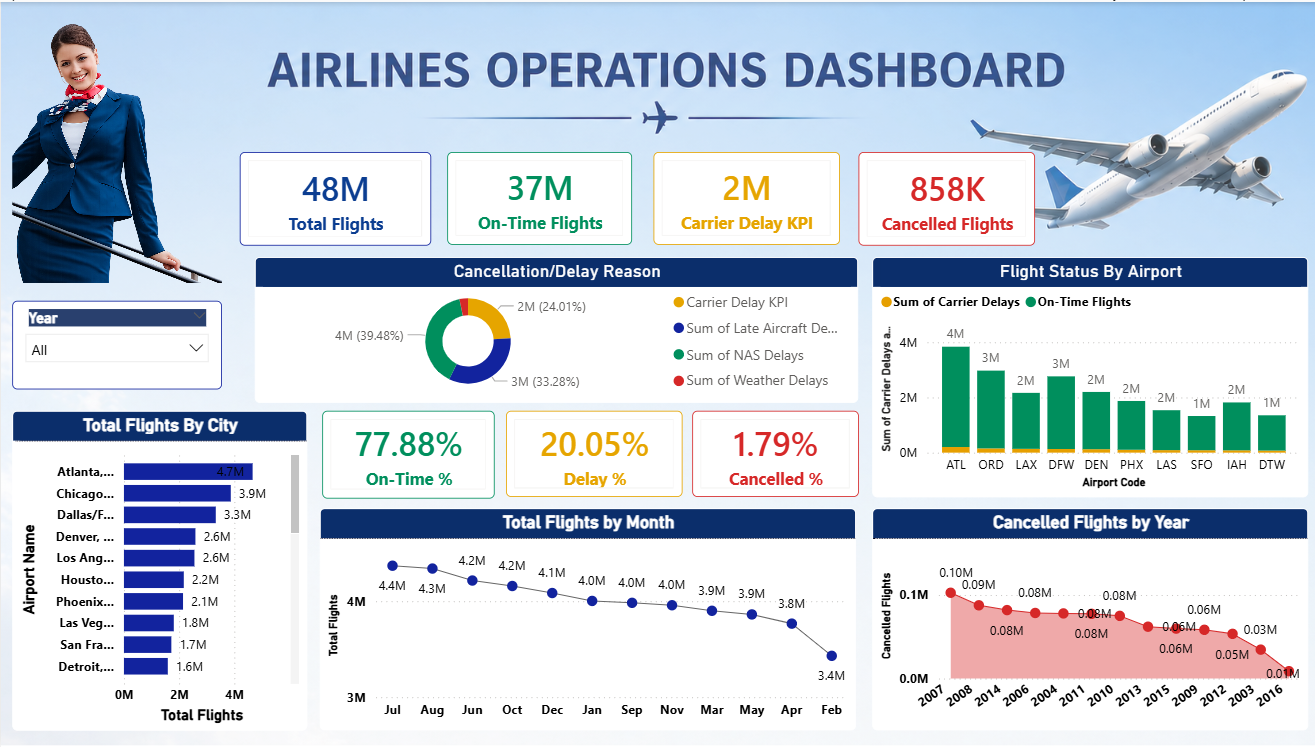

What the dashboard file says about the page in this screenshot:
{"tool":"powerbi","page":{"name":"Page 1","canvas":[1280,720],"ordinal":0},"visuals":[{"type":"cardVisual","fields":{"Data":["airlines.Total Flights KPI"]},"box":[230.4,144.8,184.6,90.5],"z":0},{"type":"cardVisual","fields":{"Data":["airlines.On-Time Flights KPI"]},"box":[430.7,144.8,178.6,89.3],"z":1000},{"type":"cardVisual","fields":{"Data":["airlines.Cancelled Flights KPI"]},"box":[827.6,144.8,170.1,90.5],"z":2000},{"type":"cardVisual","fields":{"Data":["airlines.Carrier Delay KPI"]},"box":[629.8,144.8,179.8,89.3],"z":3000},{"type":"clusteredBarChart","title":"Total Flights By City","fields":{"Category":["airlines.Airport Name"],"Y":["airlines.Total Flights KPI"]},"box":[10.9,394.5,284.7,308.8],"z":4000},{"type":"columnChart","title":"Flight Status By Airport","fields":{"Category":["airlines.Airport Code"],"Y":["Sum(airlines.Carrier Delays)","airlines.On-Time Flights KPI"]},"box":[840.9,246.1,421,231.6],"z":5000},{"type":"donutChart","title":"Cancellation/Delay Reason","fields":{"Y":["airlines.Carrier Delay KPI","Sum(airlines.Late Aircraft Delays)","Sum(airlines.NAS Delays)","Sum(airlines.Weather Delays)"]},"box":[244.9,246.1,582.7,141.2],"z":6000},{"type":"lineChart","fields":{"Y":["airlines.Total Flights KPI"],"Category":["airlines.Month Name"]},"box":[308,488.6,517.6,214.7],"z":7000},{"type":"areaChart","fields":{"Y":["airlines.Cancelled Flights KPI"],"Category":["airlines.Year"]},"box":[840.9,488.6,421,214.7],"z":8000},{"type":"slicer","fields":{"Values":["airlines.Year"]},"box":[10.9,288.3,202.7,85.7],"z":9000},{"type":"cardVisual","fields":{"Data":["airlines.Cancelled %"]},"box":[667.2,394.5,160.5,83.2],"z":10000},{"type":"cardVisual","fields":{"Data":["airlines.On-Time %"]},"box":[310.1,394.5,166.5,84.5],"z":11000},{"type":"cardVisual","fields":{"Data":["airlines.Delay %"]},"box":[487.4,394.5,170.1,83.2],"z":12000},{"type":"image","box":[10.9,0,202.7,271.4],"z":13000}]}

Visuals, with their boxes in screenshot pixels (x1, y1, x2, y2), scaled from the page's 1280x720 canvas onto the 1315x747 screenshot:
cardVisual - airlines.Total Flights KPI: (237,150,426,244)
cardVisual - airlines.On-Time Flights KPI: (442,150,626,243)
cardVisual - airlines.Cancelled Flights KPI: (850,150,1025,244)
cardVisual - airlines.Carrier Delay KPI: (647,150,832,243)
"Total Flights By City" clusteredBarChart: (11,409,304,730)
"Flight Status By Airport" columnChart: (864,255,1296,496)
"Cancellation/Delay Reason" donutChart: (252,255,850,402)
lineChart - airlines.Total Flights KPI x airlines.Month Name: (316,507,848,730)
areaChart - airlines.Cancelled Flights KPI x airlines.Year: (864,507,1296,730)
slicer - airlines.Year: (11,299,219,388)
cardVisual - airlines.Cancelled %: (685,409,850,496)
cardVisual - airlines.On-Time %: (319,409,490,497)
cardVisual - airlines.Delay %: (501,409,675,496)
image: (11,0,219,282)
